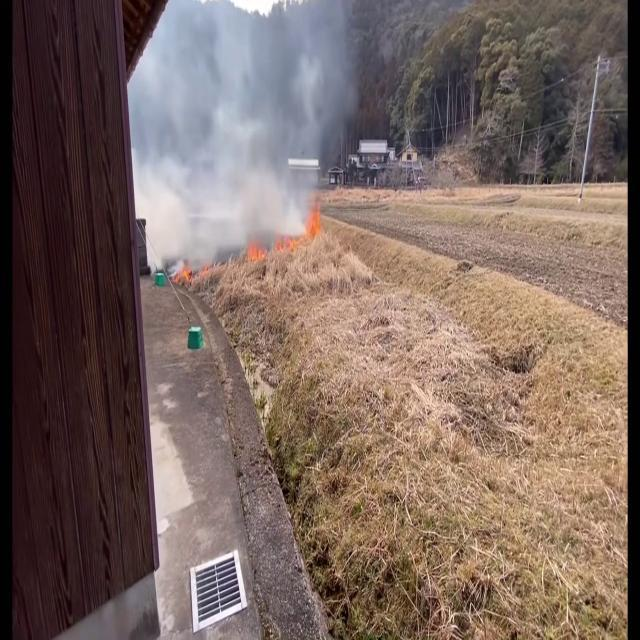Fire: (238, 224, 312, 285), (298, 188, 330, 252)
Smoke: (134, 0, 356, 273)
